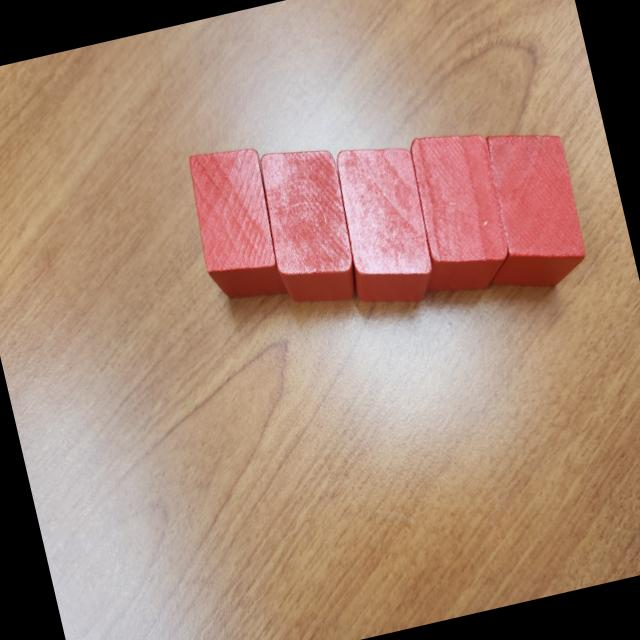red: (455, 119, 594, 301), (392, 122, 520, 306), (324, 135, 444, 315), (251, 138, 366, 314), (180, 140, 290, 308)
